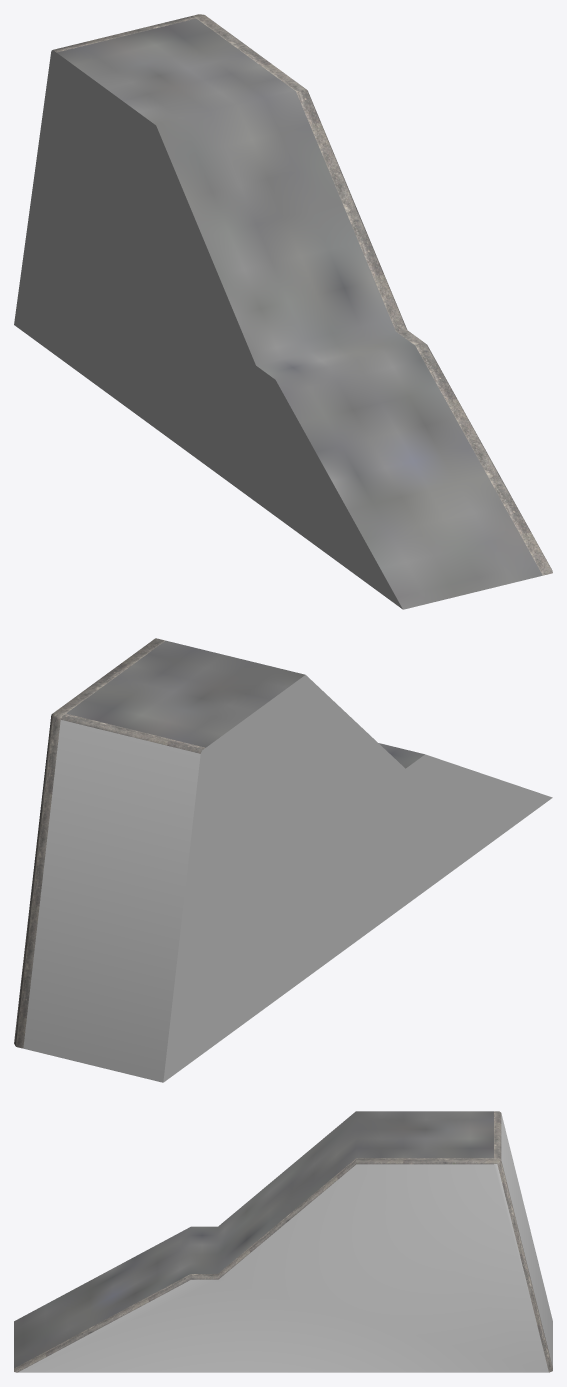
The model's file is JpHouseJ_StoneWall_slope15r.fbx.
The picture shows the model from 3 angles, top to bottom: view 1: azimuth 30°, elevation 25°; view 2: azimuth 150°, elevation 25°; view 3: azimuth 270°, elevation 25°; orthographic projection. The views are drawn at different scales.
Visible parts, largest first — view 1: JpHouseJ_StoneWall_slope15r; view 2: JpHouseJ_StoneWall_slope15r; view 3: JpHouseJ_StoneWall_slope15r.
Boxes of the visible parts, x1=… form: JpHouseJ_StoneWall_slope15r: x1=14, y1=14, x2=552, y2=609; JpHouseJ_StoneWall_slope15r: x1=14, y1=638, x2=552, y2=1082; JpHouseJ_StoneWall_slope15r: x1=14, y1=1111, x2=552, y2=1372.
Bounding box in the file's own units: 2.11 × 4.03 × 9.36.
